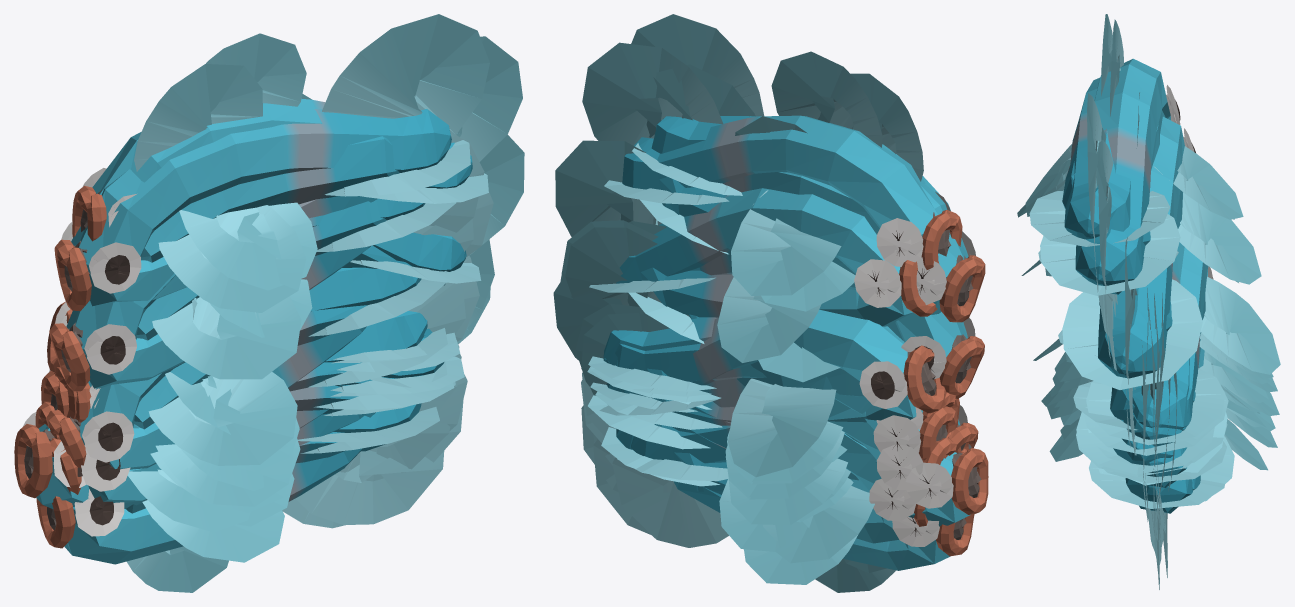
Rendered from Fisk.fbx.
The picture shows the model from 3 angles, left to right: view 1: azimuth 30°, elevation 25°; view 2: azimuth 150°, elevation 25°; view 3: azimuth 270°, elevation 25°; orthographic projection. The views are drawn at different scales.
Parts seen in each view (by area): view 1: Fish; view 2: Fish; view 3: Fish.
Part boxes in pixels (x1,y1,x2,y2): Fish: (14, 14, 524, 592); Fish: (553, 14, 988, 592); Fish: (1017, 14, 1280, 589).
Size of the model in its own units: 4.46 by 4.95 by 2.32.
